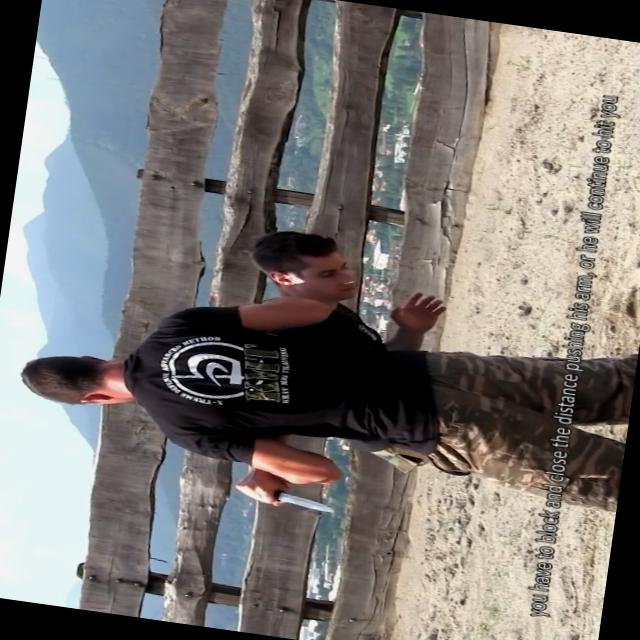knife: (230, 476, 344, 518)
